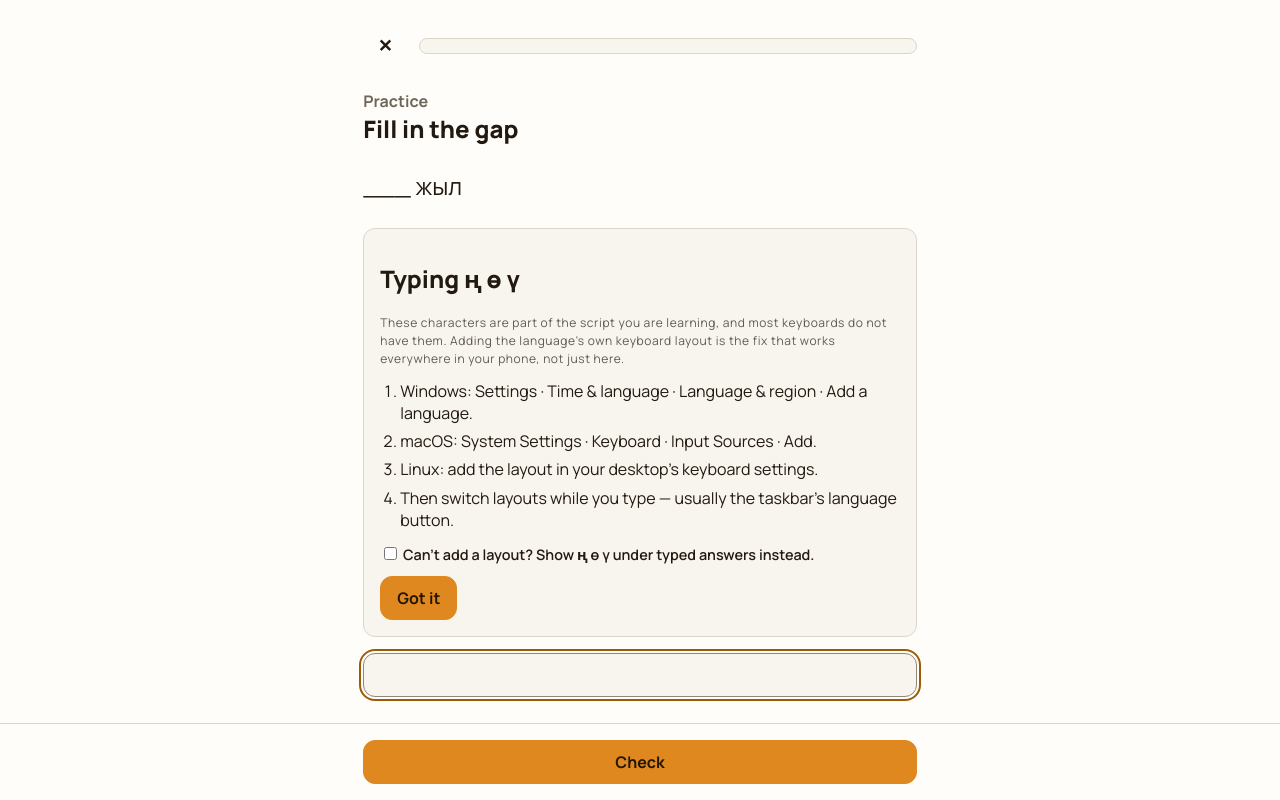
Scenario: the keyboard setup card › leaves the key row it turned on behind when it is dismissed
Click the checkbox at (391, 553), box [384,547,397,560]
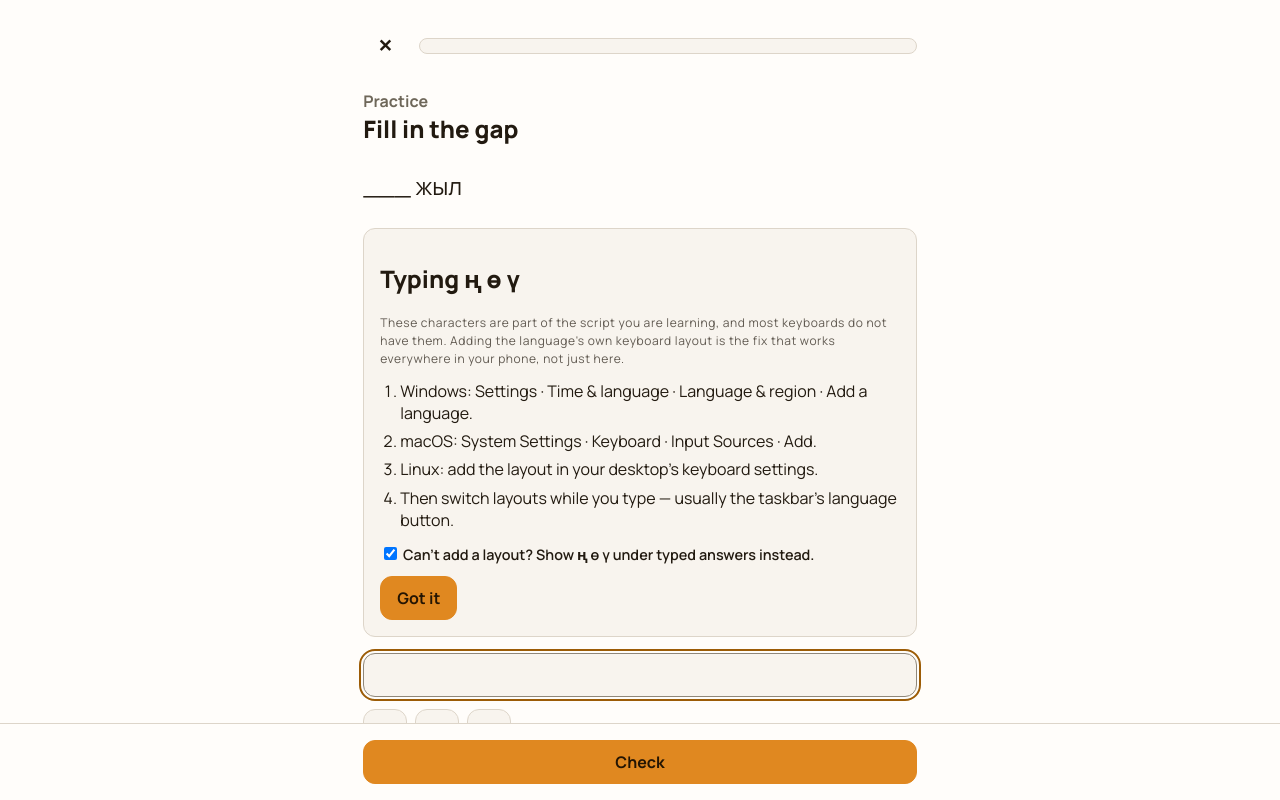
Click the button "Got it" at (419, 598), box [380,576,457,620]
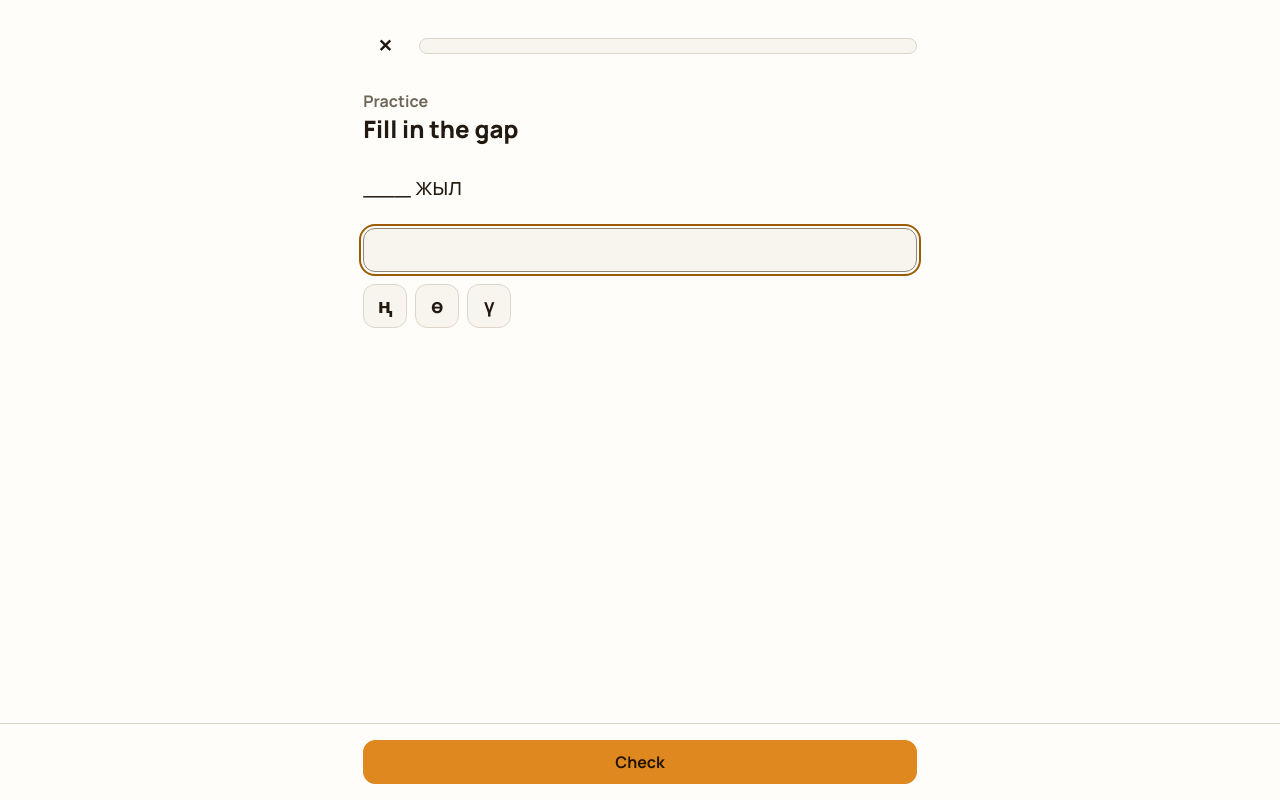
Expected: the button "ң" is shown, [363,284,407,328]
Expected: the heading "Typing ң ө ү" is gone
